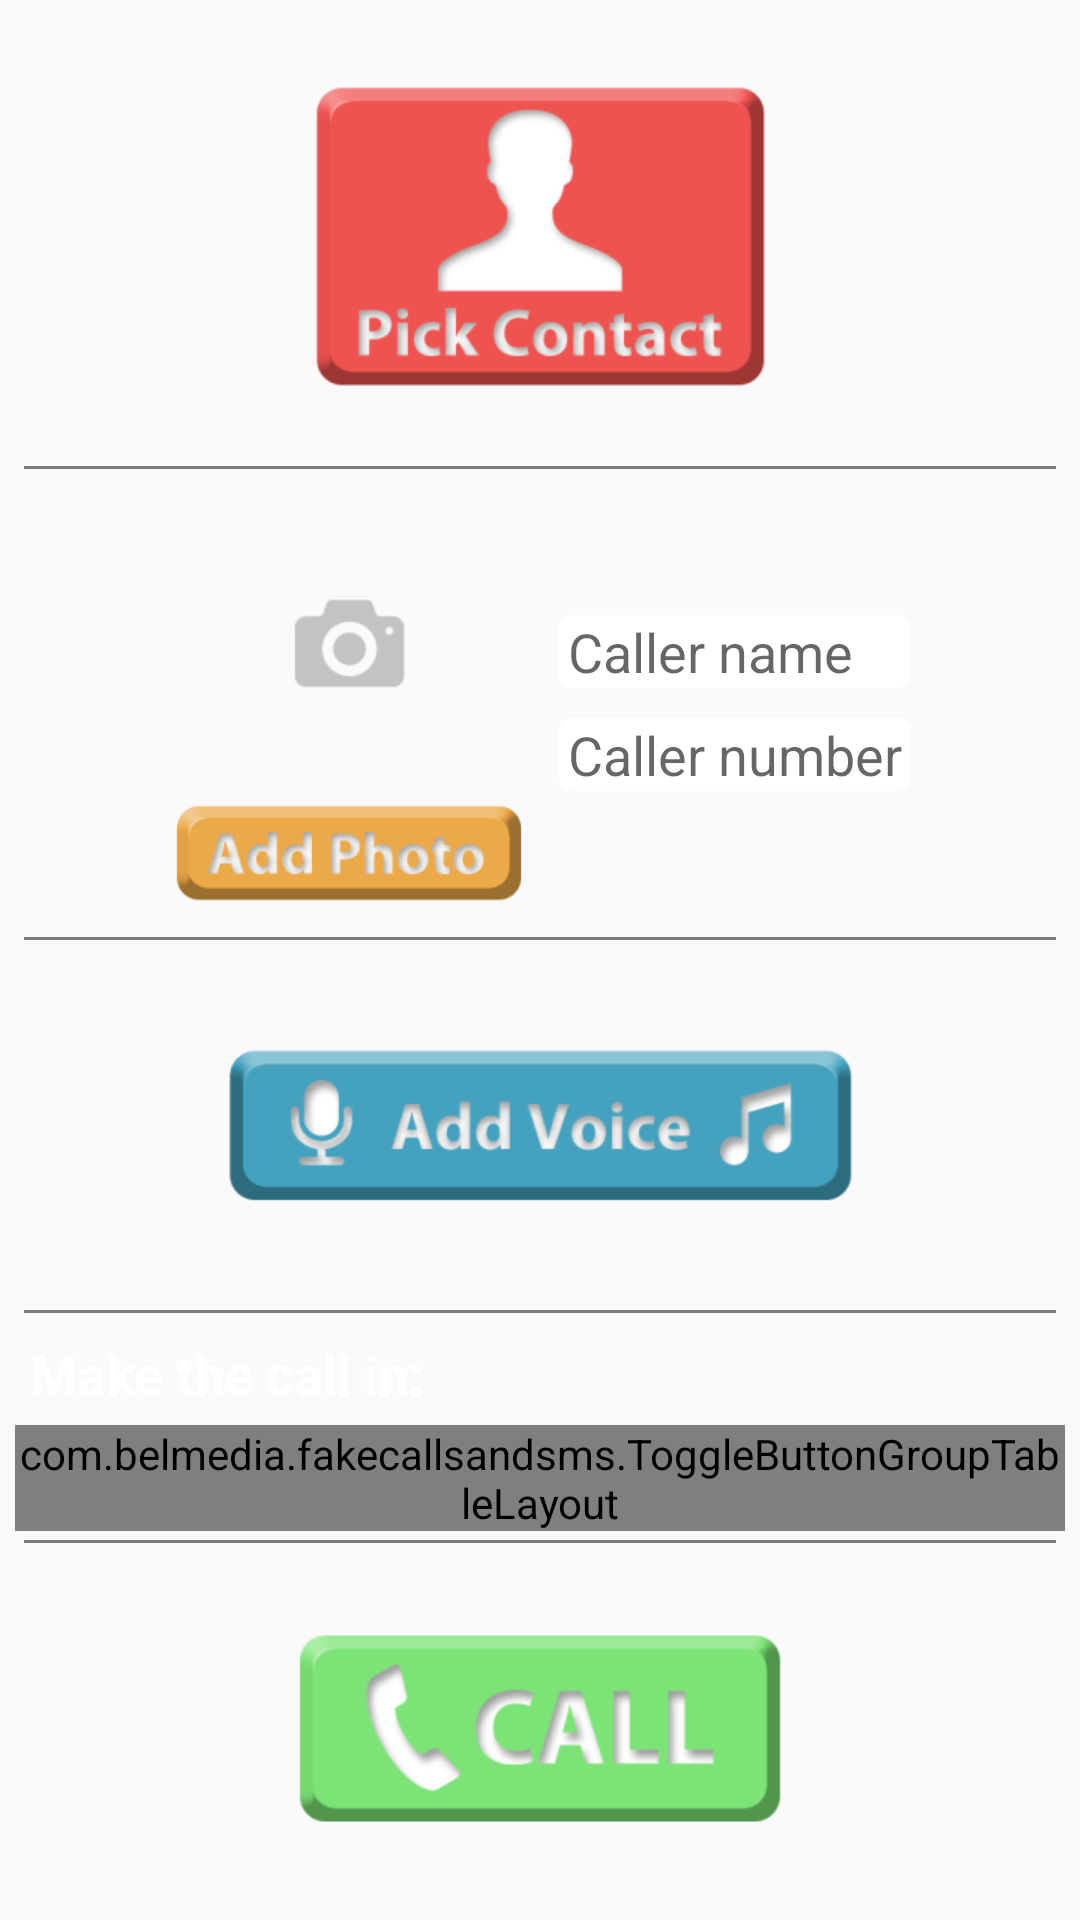

Icons on this 1080w x 1920h Android screen, each with its box as box=[x1, y1, x2, y2]:
call pic: box=[295, 600, 404, 687]
